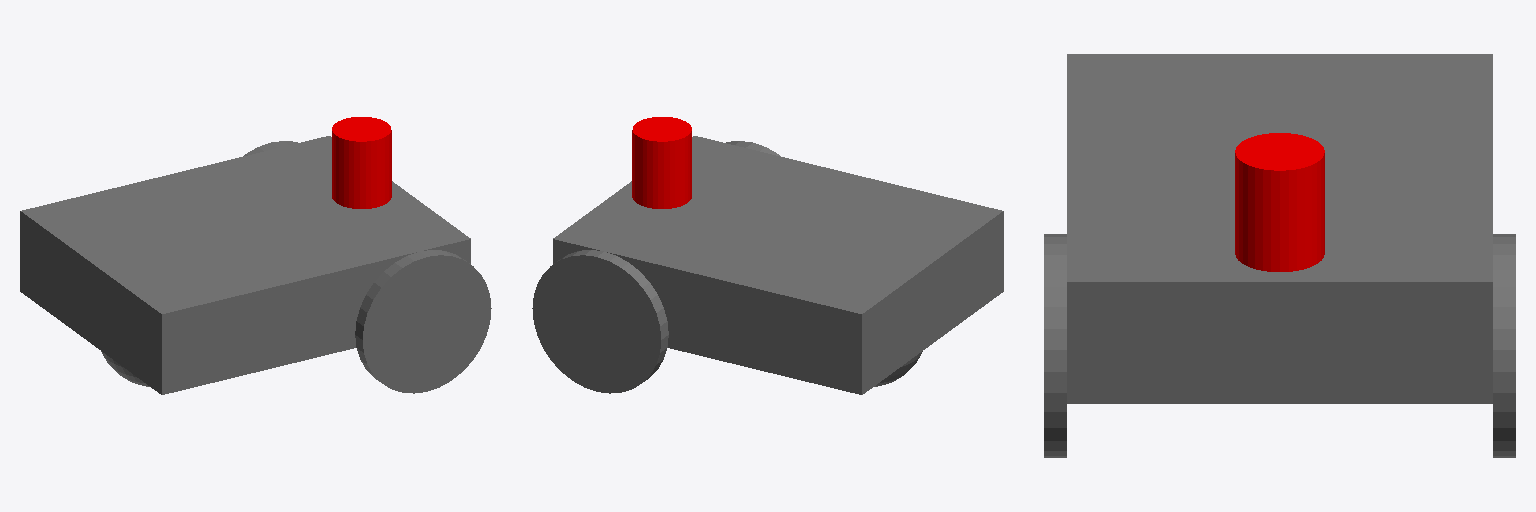
The robot description file, URDF, robot "my_robo":
<?xml version="1.0"?>
<robot name="my_robo" xmlns:xacro="http://ros.org/wiki/xacro">
  <material name="gray">
    <color rgba="0.5 0.5 0.5 2.5"/>
  </material>
  <material name="red">
    <color rgba="1.0 0.0 0.0 2.5"/>
  </material>

  <link name="/wheel_robot/base_link"/>

  <joint name="/wheel_robot/body_joint" type="fixed">
    <parent link="/wheel_robot/base_link"/>
    <child  link="/wheel_robot/body_link"/>
    <origin xyz="-0.08 0 0.07" rpy="0 0 0"/>
  </joint>
  <link name="/wheel_robot/body_link">
    <inertial>
      <origin xyz="0 0 0" rpy="0 0 0"/>
      <mass value="2.0"/>
      <inertia ixx="0.1" ixy="0.0" ixz="0.0" iyy="0.1" iyz="0.0" izz="0.1"/>
    </inertial>
    <visual>
      <origin xyz="0 0 0" rpy="0 0 0" />
      <geometry>
        <box size="0.24 0.19 0.06" />
      </geometry>
      <material name="gray" />
    </visual>
    <collision>
      <origin xyz="0 0 0" rpy="0 0 0"/>
      <geometry>
        <box size="0.23 0.18 0.05" />
      </geometry>
    </collision>
  </link>
  <gazebo reference="/wheel_robot/body_link">
    <mu1 value="0.5" />
    <mu2 value="0.5" />
    <material>Gazebo/Gray</material>
  </gazebo>

  <joint name="/wheel_robot/left_wheel_joint" type="continuous">
    <parent link="/wheel_robot/base_link"/>
    <child  link="/wheel_robot/left_wheel_link"/>
    <origin xyz="0 0.1 0.05" rpy="-1.5708 0 0"/>
    <axis xyz="0 0 1" />
    <limit velocity="20.0" effort="0.7" />
    <dynamics damping="0.1"/>
  </joint>
  <transmission name="/wheel_robot/left_wheel_trans">
    <type>transmission_interface/SimpleTransmission</type>
    <joint name="/wheel_robot/left_wheel_joint">
        <hardwareInterface>hardware_interface/VelocityJointInterface</hardwareInterface>
    </joint>
    <actuator name="/wheel_robot/left_wheel_motor">
       <hardwareInterface>hardware_interface/VelocityJointInterface</hardwareInterface>
       <mechanismReduction>1</mechanismReduction>
    </actuator>
  </transmission>

  <link name="/wheel_robot/left_wheel_link">
    <inertial>
      <origin xyz="0 0 0" rpy="0 0 0"/>
      <mass value="0.03"/>
      <inertia ixx="0.1" ixy="0.0" ixz="0.0" iyy="0.1" iyz="0.0" izz="0.1"/>
    </inertial>
    <visual>
      <origin xyz="0 0 0" rpy="0 0 0" />
      <geometry>
        <cylinder radius="0.05" length="0.01" />
      </geometry>
      <material name="red">
        <color rgba="0.5 0.5 0.5 2.5"/>
      </material>
    </visual>
    <collision>
      <origin xyz="0 0 0" rpy="0 0 0"/>
      <geometry>
        <cylinder radius="0.05" length="0.01" />
      </geometry>
    </collision>
  </link>
  <gazebo reference="/wheel_robot/left_wheel_link">
    <mu1 value="1.5" />
    <mu2 value="1.5" />
    <kp value="10000" />
    <kd value="100" />
    <material>Gazebo/Red</material>
  </gazebo>

  <joint name="/wheel_robot/right_wheel_joint" type="continuous">
    <parent link="/wheel_robot/base_link"/>
    <child  link="/wheel_robot/right_wheel_link"/>
    <origin xyz="0 -0.1 0.05" rpy="-1.5708 0 0"/>
    <axis xyz="0 0 1" />
    <limit velocity="20.0" effort="0.7" />
    <dynamics damping="0.1"/>
  </joint>
  <transmission name="/wheel_robot/right_wheel_trans">
    <type>transmission_interface/SimpleTransmission</type>
    <joint name="/wheel_robot/right_wheel_joint">
        <hardwareInterface>hardware_interface/VelocityJointInterface</hardwareInterface>
    </joint>
    <actuator name="/wheel_robot/right_wheel_motor">
       <hardwareInterface>hardware_interface/VelocityJointInterface</hardwareInterface>
       <mechanismReduction>1</mechanismReduction>
    </actuator>
  </transmission>

  <link name="/wheel_robot/right_wheel_link">
    <inertial>
      <origin xyz="0 0 0" rpy="0 0 0"/>
      <mass value="0.03"/>
      <inertia ixx="0.1" ixy="0.0" ixz="0.0" iyy="0.1" iyz="0.0" izz="0.1"/>
    </inertial>
    <visual>
      <origin xyz="0 0 0" rpy="0 0 0" />
      <geometry>
        <cylinder radius="0.05" length="0.01" />
      </geometry>
      <material name="red">
        <color rgba="0.5 0.5 0.5 2.5"/>
      </material>
    </visual>
    <collision>
      <origin xyz="0 0 0" rpy="0 0 0"/>
      <geometry>
        <cylinder radius="0.05" length="0.01" />
      </geometry>
    </collision>
  </link>
  <gazebo reference="/wheel_robot/right_wheel_link">
    <mu1 value="1.5" />
    <mu2 value="1.5" />
    <kp value="10000" />
    <kd value="100" />
    <material>Gazebo/Red</material>
  </gazebo>

  <joint name="/wheel_robot/rear_ball_joint" type="fixed">
    <parent link="/wheel_robot/base_link"/>
    <child  link="/wheel_robot/rear_ball_link"/>
    <origin xyz="-0.15 0 0.04" rpy="0 0 0"/>
    <axis xyz="0 0 1" />
  </joint>
  <link name="/wheel_robot/rear_ball_link">
    <inertial>
      <origin xyz="0 0 0" rpy="0 0 0"/>
      <mass value="0.1"/>
      <inertia ixx="0.1" ixy="0.0" ixz="0.0" iyy="0.1" iyz="0.0" izz="0.1"/>
    </inertial>
   <visual>
     <origin xyz="0 0 0" rpy="0 0 0" />
     <geometry>
       <sphere radius="0.04" />
     </geometry>
     <material name="gray" />
   </visual>
    <collision>
      <origin xyz="0 0 0" rpy="0 0 0"/>
      <geometry>
       <sphere radius="0.04" />
      </geometry>
    </collision>
  </link>
  <gazebo reference="/wheel_robot/rear_ball_link">
    <mu1 value="0.1" />
    <mu2 value="0.1" />
    <kp value="1000000" />
    <kd value="100" />
    <material>Gazebo/Gray</material>
  </gazebo>

  <joint name="/wheel_robot/lidar_joint" type="fixed">
    <parent link="/wheel_robot/body_link"/>
    <child  link="/wheel_robot/lidar_link"/>
    <origin xyz="0.09 0 0.05" rpy="0 0 0"/>
  </joint>
  <link name="/wheel_robot/lidar_link">
    <visual>
      <origin xyz="0 0 0" rpy="0 0 0" />
      <geometry>
        <cylinder radius="0.02" length="0.06" />
      </geometry>
      <material name="red" />
    </visual>
    <collision>
      <origin xyz="0 0 0" rpy="0 0 0"/>
      <geometry>
        <cylinder radius="0.02" length="0.06" />
      </geometry>
    </collision>
  </link>
  <gazebo reference="/wheel_robot/lidar_link">
    <material>Gazebo/Red</material>
    <sensor type="ray" name="head_lidar">
      <pose>0 0 0 0 0 0</pose>
      <visualize>false</visualize>
      <update_rate>10</update_rate>
      <ray>
        <scan>
          <horizontal>
            <samples>400</samples>
            <resolution>1</resolution>
            <min_angle>-3.141592</min_angle>
            <max_angle> 3.141592</max_angle>
          </horizontal>
        </scan>
        <range>
          <min>0.10</min>
          <max>20.0</max>
          <resolution>0.01</resolution>
        </range>
        <noise>
          <type>gaussian</type>
          <mean>0.0</mean>
          <stddev>0.01</stddev>
        </noise>
      </ray>
      <plugin name="gazebo_ros_lidar_controller" filename="libgazebo_ros_laser.so">
        <topicName>/wheel_robot/laser/scan</topicName>
        <frameName>wheel_robot/lidar_link</frameName>
      </plugin>
    </sensor>
  </gazebo>

  <gazebo reference="/wheel_robot/base_link">
    <gravity>true</gravity>
    <sensor name="imu_sensor" type="imu">
      <always_on>true</always_on>
      <update_rate>50</update_rate>
      <visualize>true</visualize>
      <topic>__default_topic__</topic>
      <plugin filename="libgazebo_ros_imu_sensor.so" name="imu_plugin">
        <topicName>/wheel_robot/imu/data</topicName>
        <bodyName>base_link</bodyName>
        <updateRateHZ>50.0</updateRateHZ>
        <gaussianNoise>0.00</gaussianNoise>
        <xyzOffset>0 0 0</xyzOffset>
        <rpyOffset>0 0 0</rpyOffset>
        <frameName>base_link</frameName>
      </plugin>
      <pose>0 0 0 0 0 0</pose>
    </sensor>
  </gazebo>  
  <gazebo>
    <plugin name="gazebo_ros_control" filename="libgazebo_ros_control.so">
      <robotNamespace>/wheel_robot</robotNamespace>
    </plugin>
  </gazebo>
</robot>

--- Facts derived from the render (not from the file) ---
The picture shows the robot from 3 angles, left to right: view 1: azimuth 30°, elevation 25°; view 2: azimuth 150°, elevation 25°; view 3: azimuth 270°, elevation 25°; orthographic projection.
Model my_robo with 6 links and 5 joints (2 continuous, 3 fixed), rooted at /wheel_robot/base_link, posed all joints at 0.
Links seen in each view (by area): view 1: /wheel_robot/body_link, /wheel_robot/right_wheel_link, /wheel_robot/lidar_link; view 2: /wheel_robot/body_link, /wheel_robot/left_wheel_link, /wheel_robot/lidar_link; view 3: /wheel_robot/body_link, /wheel_robot/lidar_link, /wheel_robot/left_wheel_link, /wheel_robot/right_wheel_link.
Boxes of the visible links, box(x1,y1,x2,y2) form: /wheel_robot/body_link: box(20, 136, 470, 394); /wheel_robot/right_wheel_link: box(355, 250, 491, 393); /wheel_robot/lidar_link: box(332, 117, 391, 208); /wheel_robot/body_link: box(553, 136, 1003, 394); /wheel_robot/left_wheel_link: box(532, 250, 668, 393); /wheel_robot/lidar_link: box(632, 117, 691, 208); /wheel_robot/body_link: box(1067, 54, 1492, 403); /wheel_robot/lidar_link: box(1235, 133, 1324, 271); /wheel_robot/left_wheel_link: box(1493, 234, 1515, 457); /wheel_robot/right_wheel_link: box(1044, 234, 1066, 457).
Bounding box of the posed robot: 0.25 × 0.21 × 0.15 m (x, y, z).
Geometry: primitives only (box / cylinder / sphere), no mesh files.
